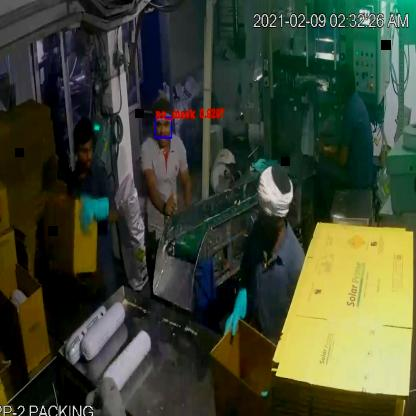glove: (67, 188, 116, 237), (221, 283, 256, 347)
no_glove: (138, 162, 179, 223), (310, 122, 352, 168), (176, 160, 197, 217)
